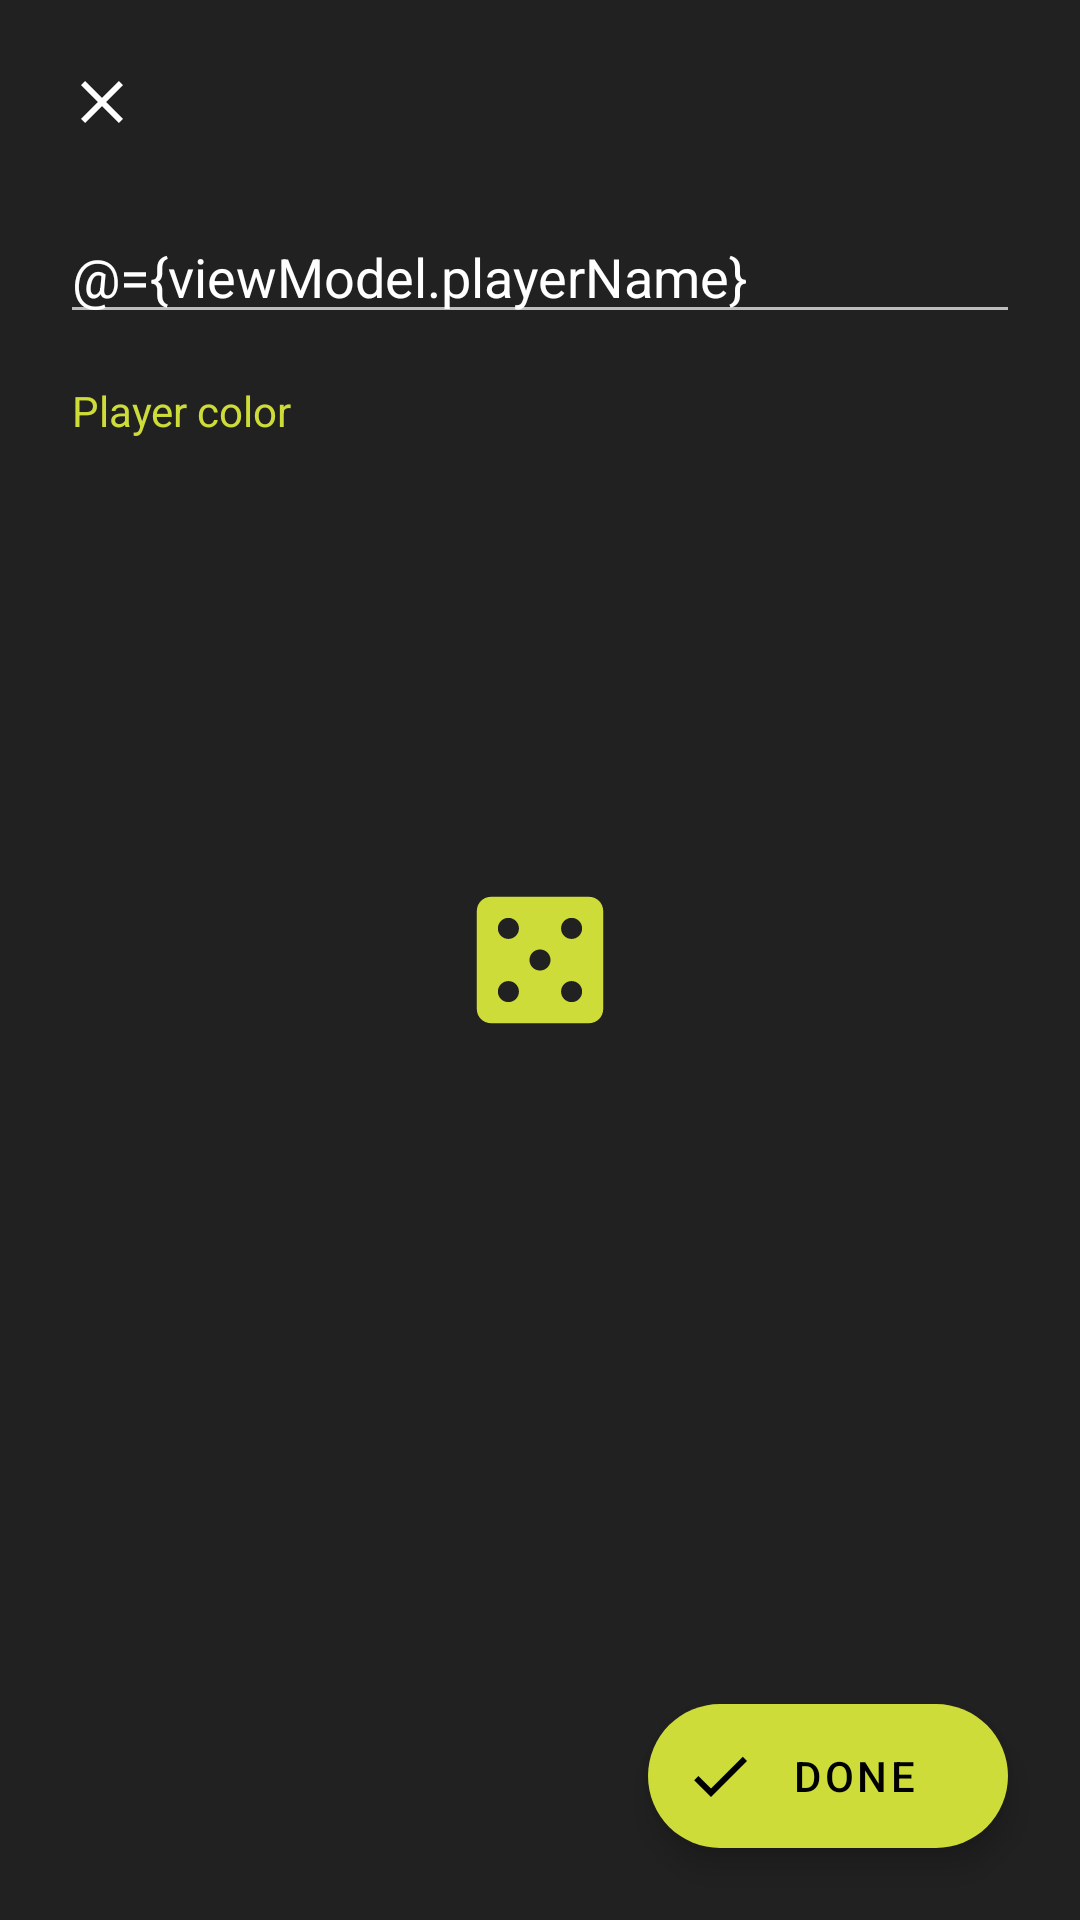

Icon bounding boxes for this 1080px x 1920px phone screenshot, format [x1=x1, y1=y1, x2=x2, y2=y2]:
Close: [x1=81, y1=81, x2=123, y2=123]
